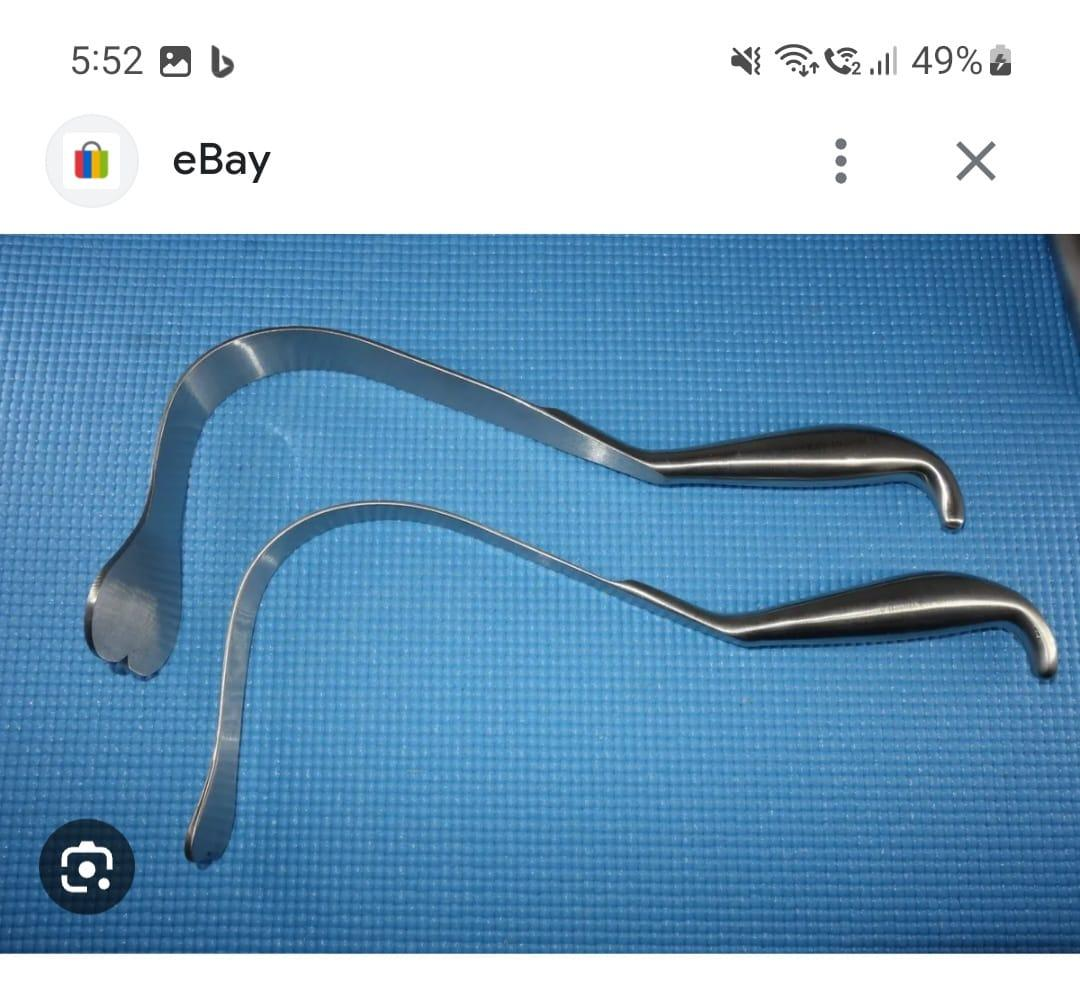Harrington Retractor: (67, 304, 963, 681)
